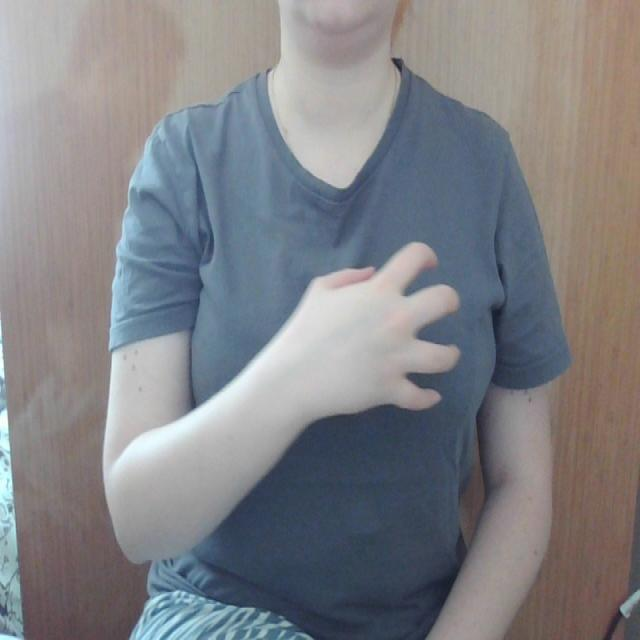Anne: (270, 222, 489, 420)
